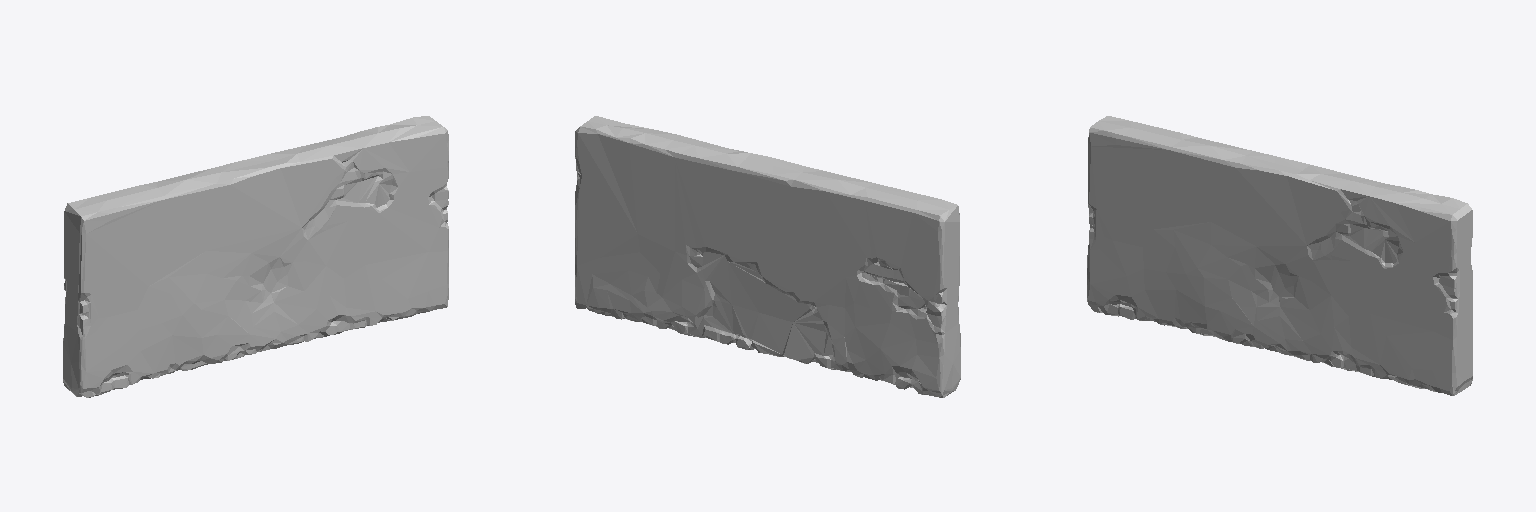
File: Wall2.obj
The picture shows the model from 3 angles: view 1: azimuth 30°, elevation 25°; view 2: azimuth 150°, elevation 25°; view 3: azimuth 330°, elevation 25°; orthographic projection.
Visible parts, largest first — view 1: Object_2_Object_0; view 2: Object_2_Object_0; view 3: Object_2_Object_0.
Boxes of the visible parts, <box> form: Object_2_Object_0: <box>63,116,448,397</box>; Object_2_Object_0: <box>575,116,960,397</box>; Object_2_Object_0: <box>1087,116,1472,395</box>.
Size of the model in its own units: 9.96 by 4.8 by 0.9918.